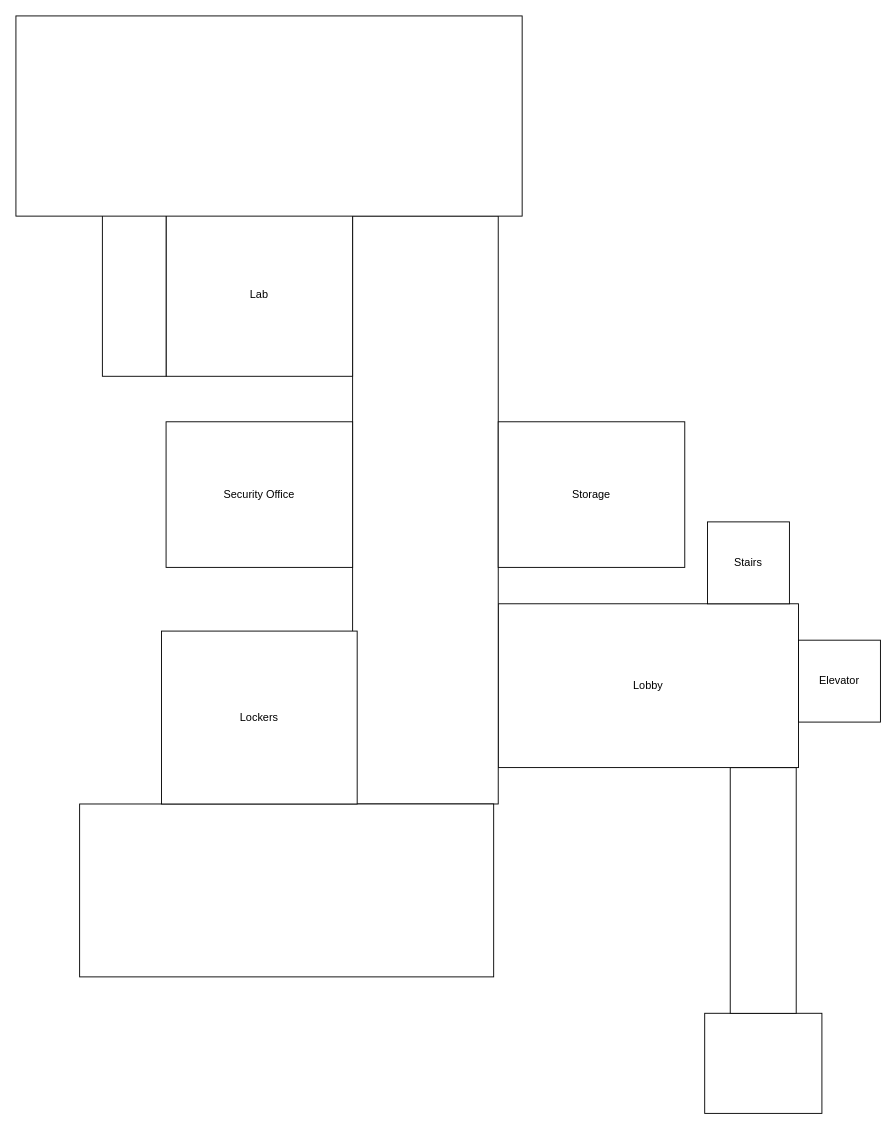
Image size: 896x1129. Some labels were removed from this diagram. Here are the shapes that lost their labels. From the top down, the box of each, then its label:
(15, 15, 522, 216): Manager's Office
(101, 212, 166, 376): Observation Room
(79, 803, 494, 977): Break Room
